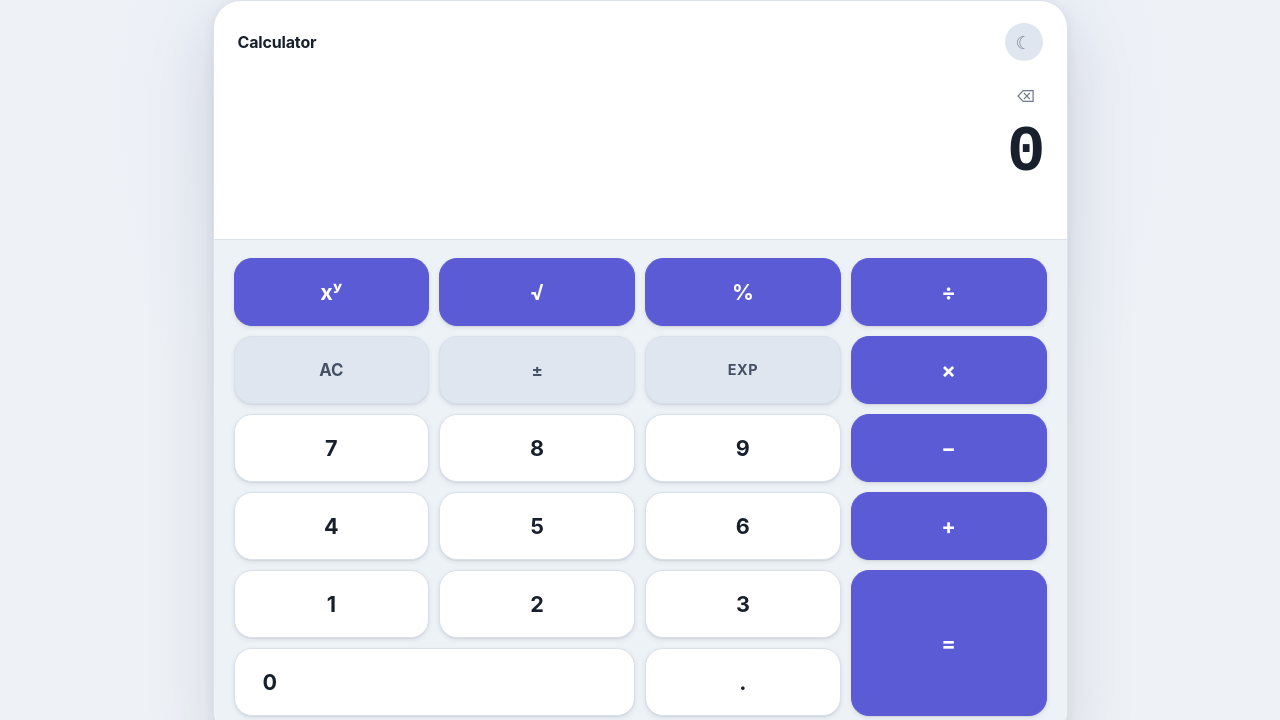
Test: Calculator › uses the backend for exponentiation
Step 1. Click the button "2" → (537, 604), box [439,570,635,638]
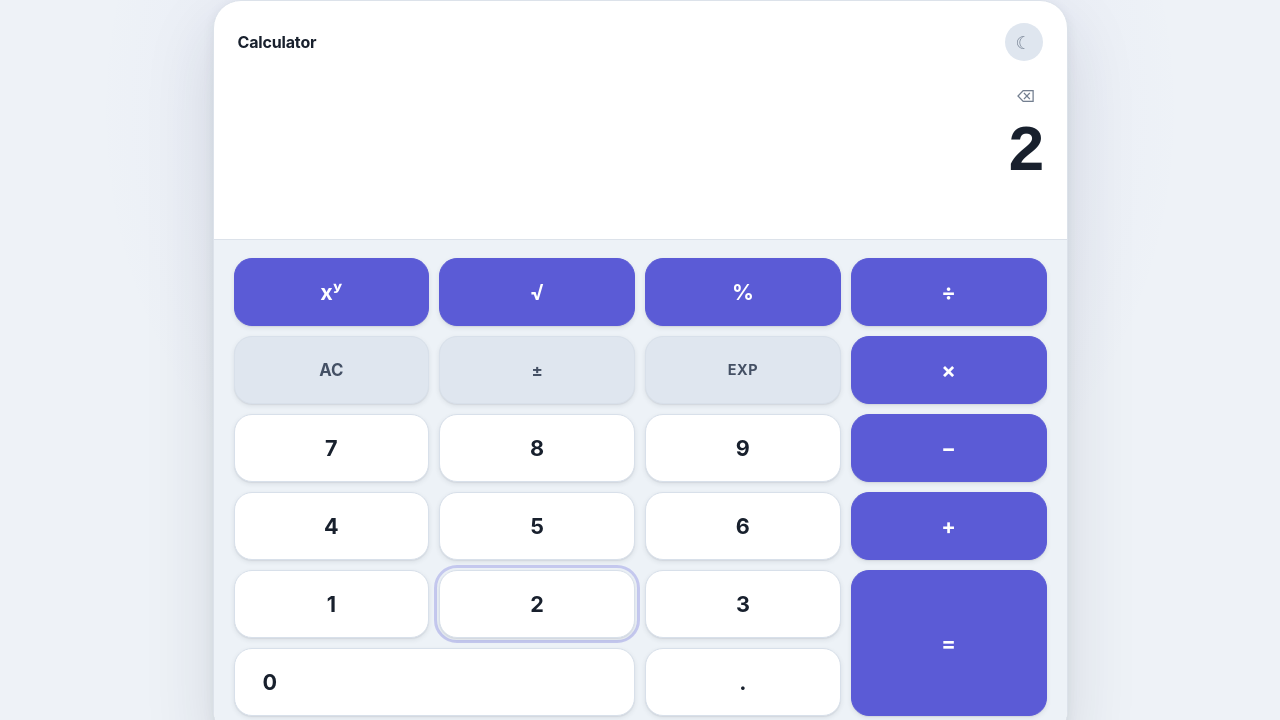
Step 2. Click the button with aria-label "Power" → (331, 292), box [234,258,429,326]
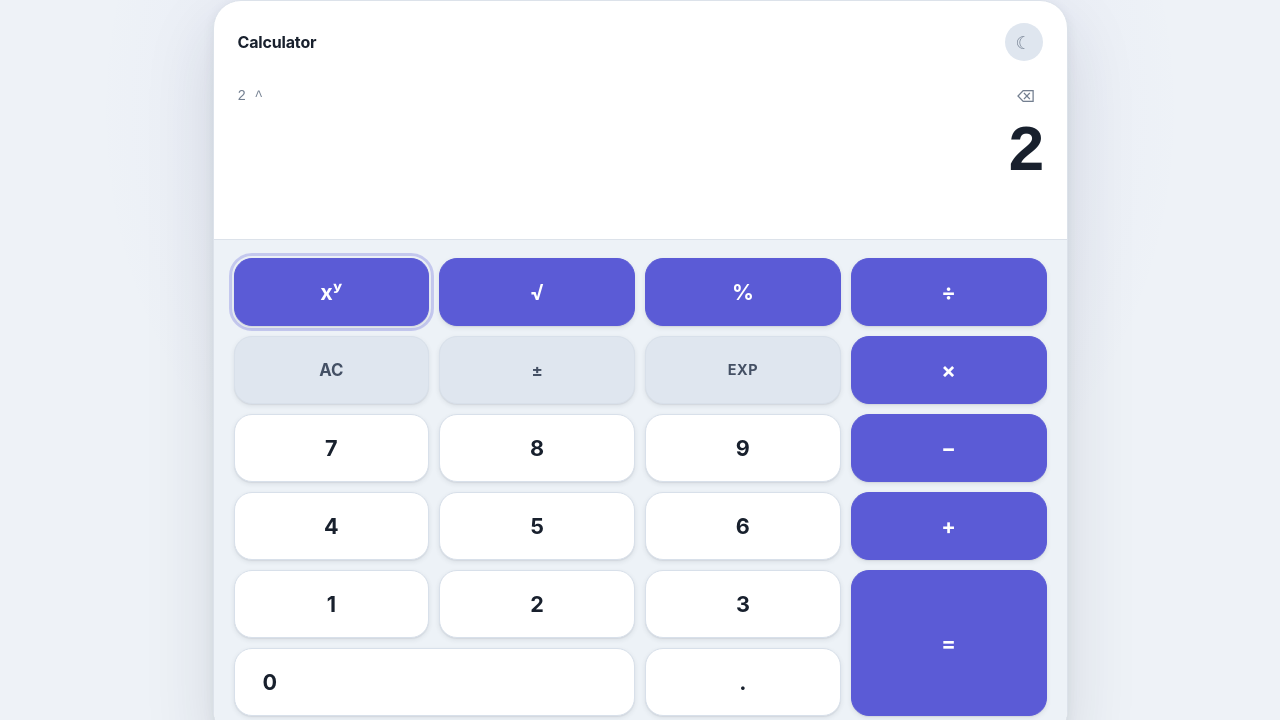
Step 3. Click the button "8" → (537, 448), box [439,414,635,482]
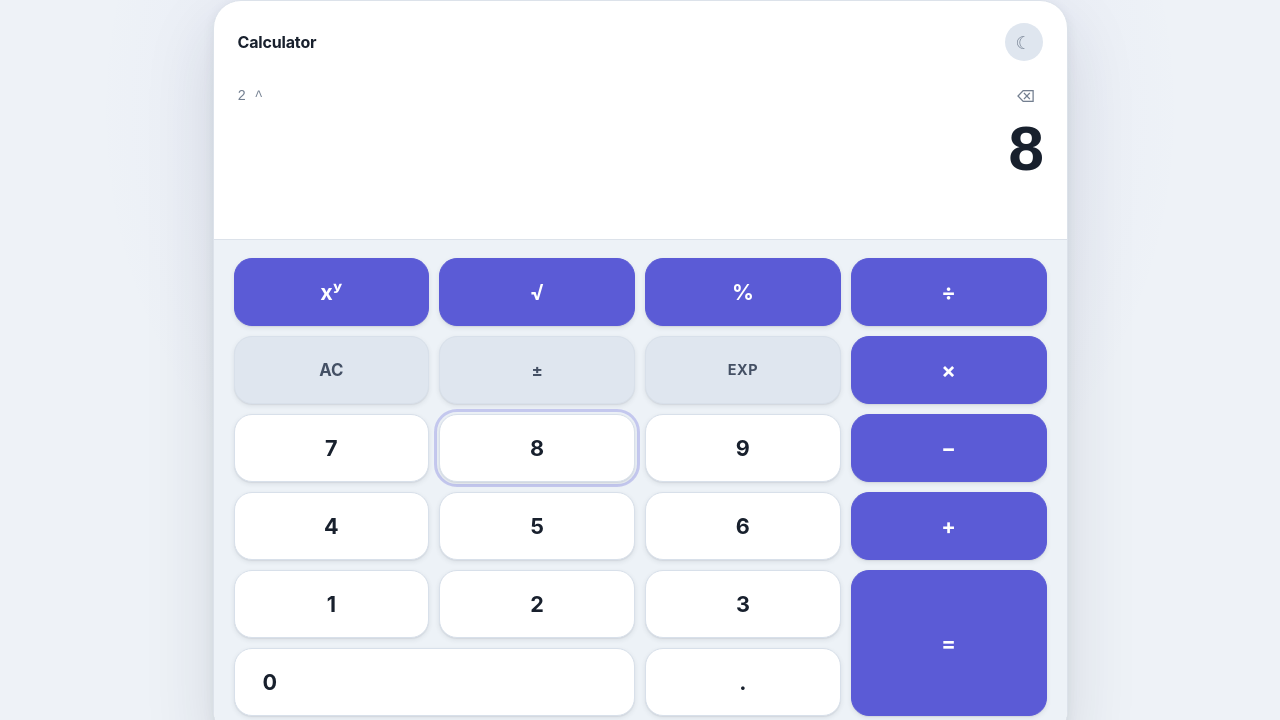
Step 4. Click the button named "Equals" → (949, 643), box [851,570,1047,716]
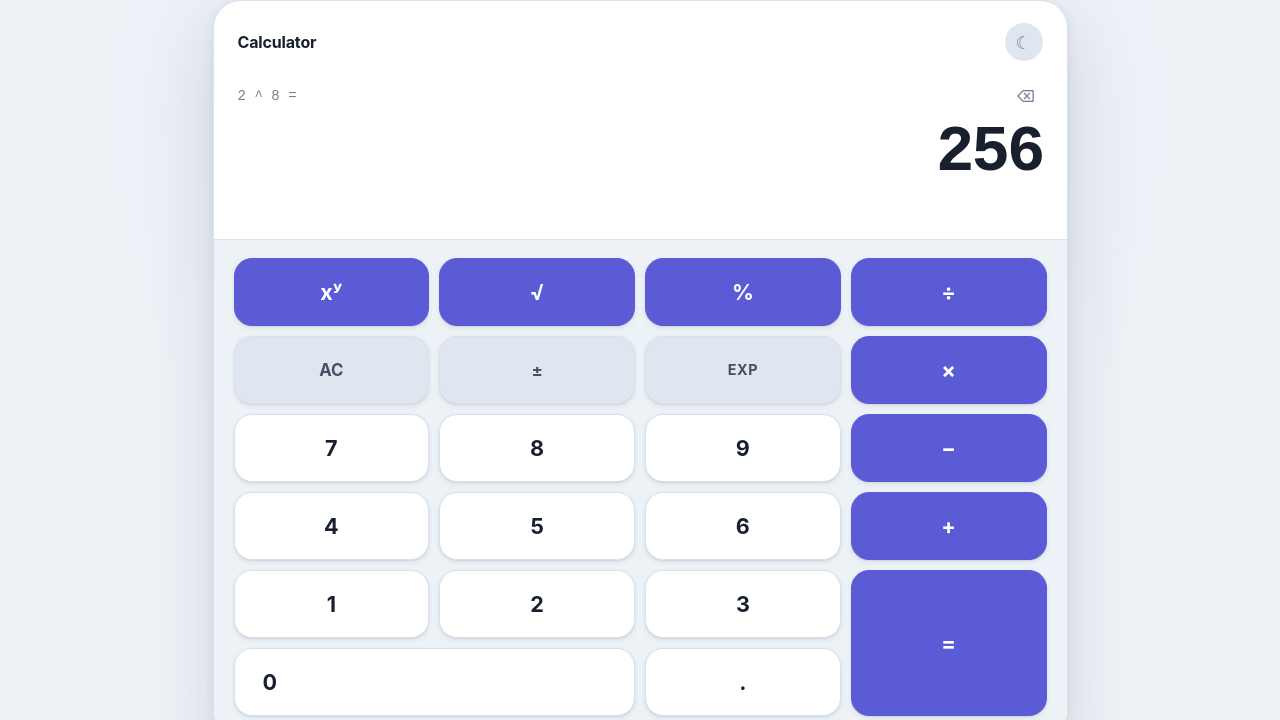
Result: the field named "Calculator display" holds "256" at [238,111,1042,193]
